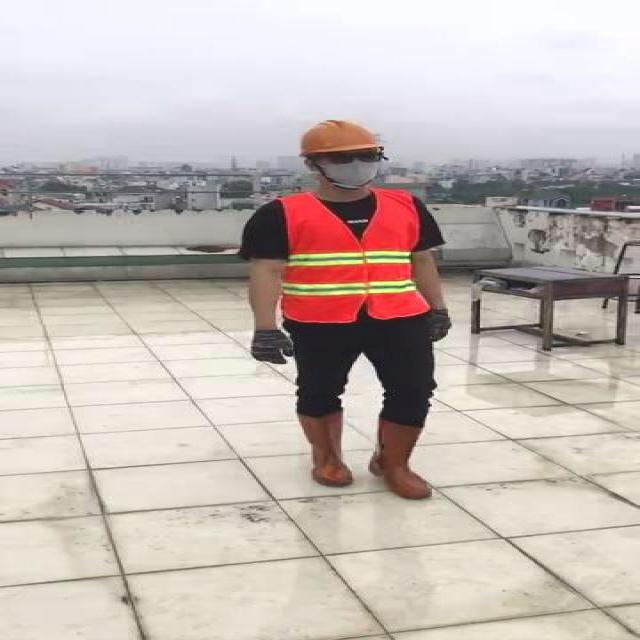boots: (368, 415, 434, 499), (292, 409, 359, 488)
face_mask: (322, 144, 386, 185)
glasses: (322, 147, 389, 168)
hand_glove: (247, 328, 295, 367), (423, 306, 455, 344)
head_helmet: (290, 116, 386, 157)
person: (230, 116, 460, 504)
vest: (271, 191, 428, 320)
